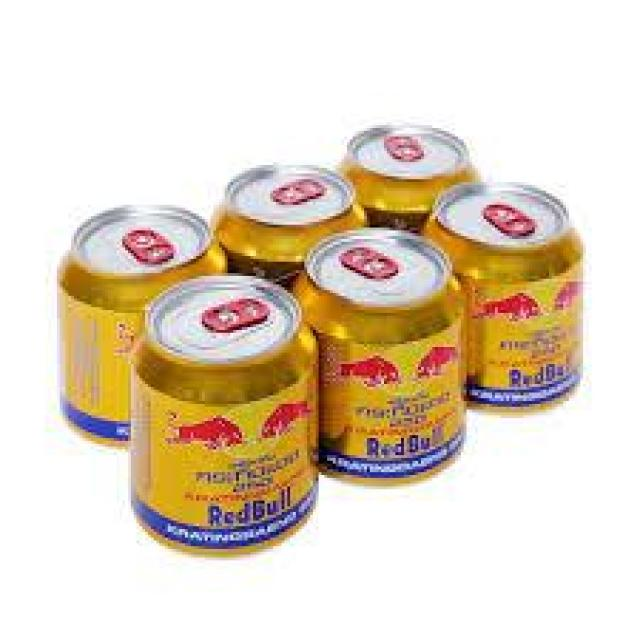can: (122, 265, 318, 557), (304, 219, 466, 483), (57, 199, 218, 441), (426, 185, 584, 415), (216, 162, 368, 286), (350, 117, 474, 248)
pop tab: (117, 216, 178, 274), (481, 196, 542, 247), (341, 239, 404, 284), (270, 170, 328, 210), (381, 128, 431, 165)
